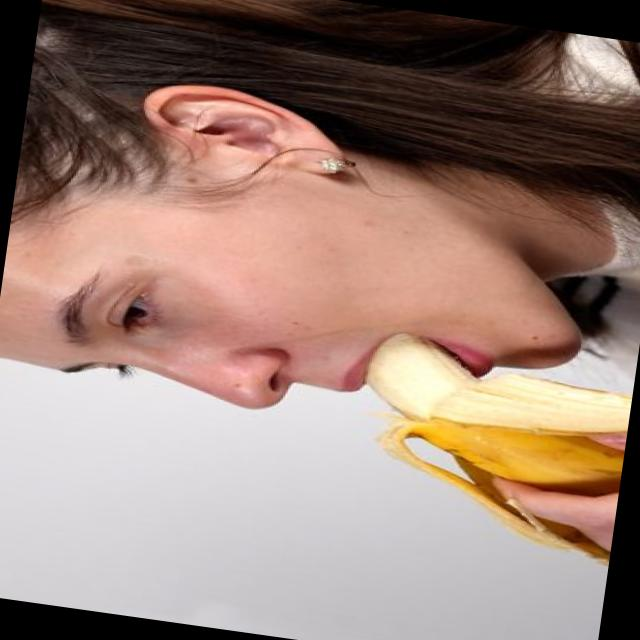banana_peel: (334, 309, 625, 588)
